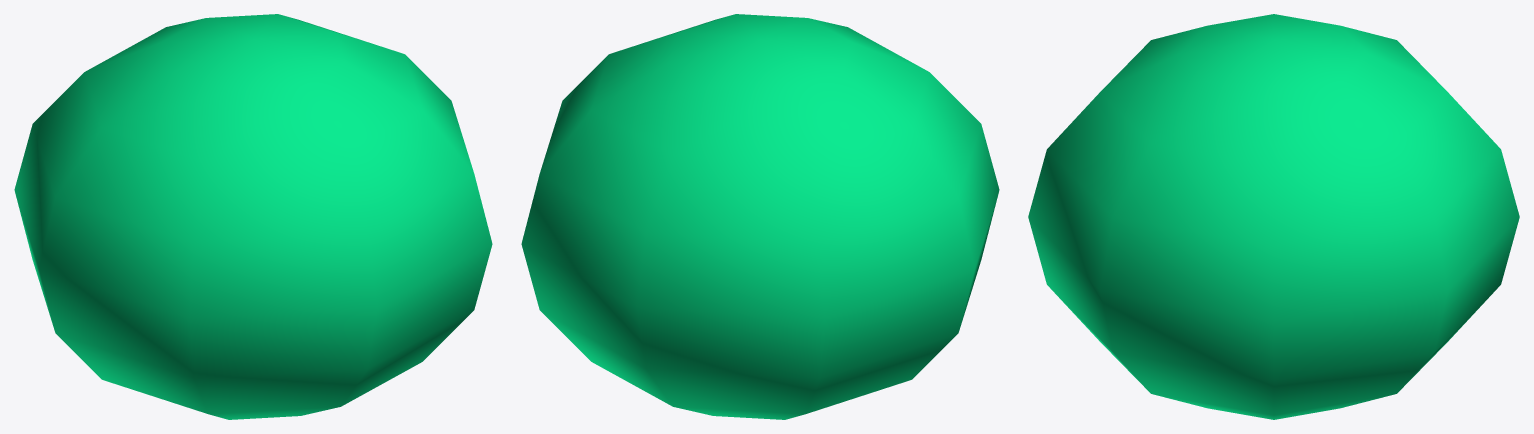
The model's file is V_Flower_Pistil_01.fbx.
3 renders of one model, left to right at view 1: azimuth 30°, elevation 25°; view 2: azimuth 150°, elevation 25°; view 3: azimuth 270°, elevation 25°, orthographic.
Visible parts, largest first — view 1: V_Flower_Pistil_01; view 2: V_Flower_Pistil_01; view 3: V_Flower_Pistil_01.
Part boxes in pixels (x1=…): V_Flower_Pistil_01: x1=14, y1=14, x2=492, y2=419; V_Flower_Pistil_01: x1=521, y1=14, x2=999, y2=419; V_Flower_Pistil_01: x1=1028, y1=14, x2=1519, y2=419.
Size of the model in its own units: 11.7 by 9.28 by 11.7.
